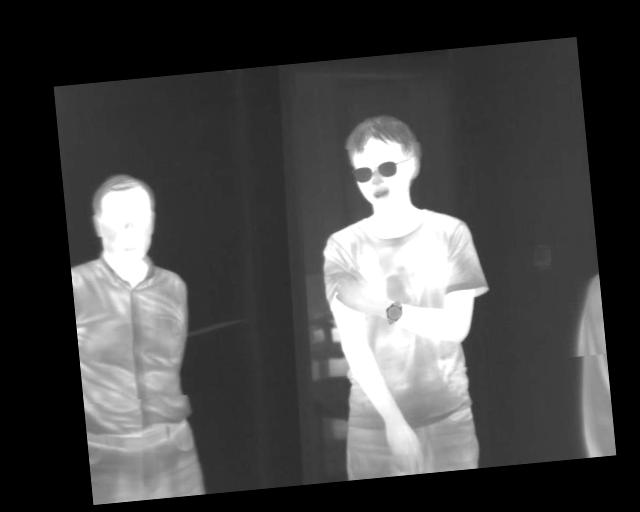face: (340, 109, 426, 213), (86, 169, 160, 269)
